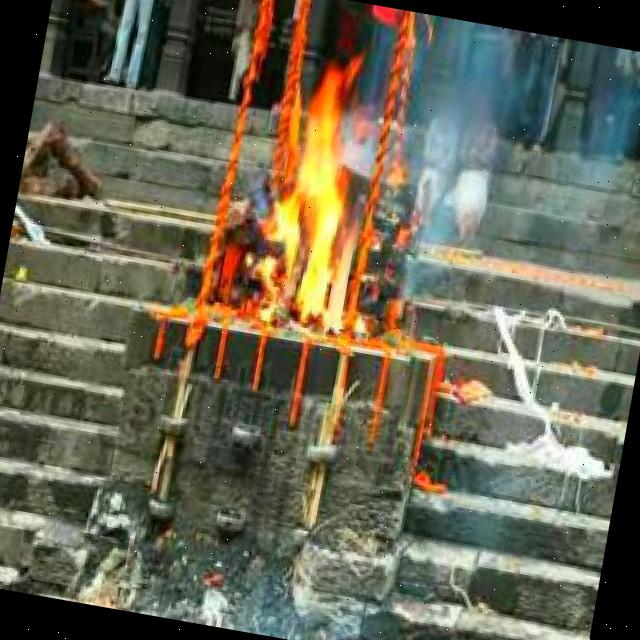fire: (244, 70, 392, 340)
